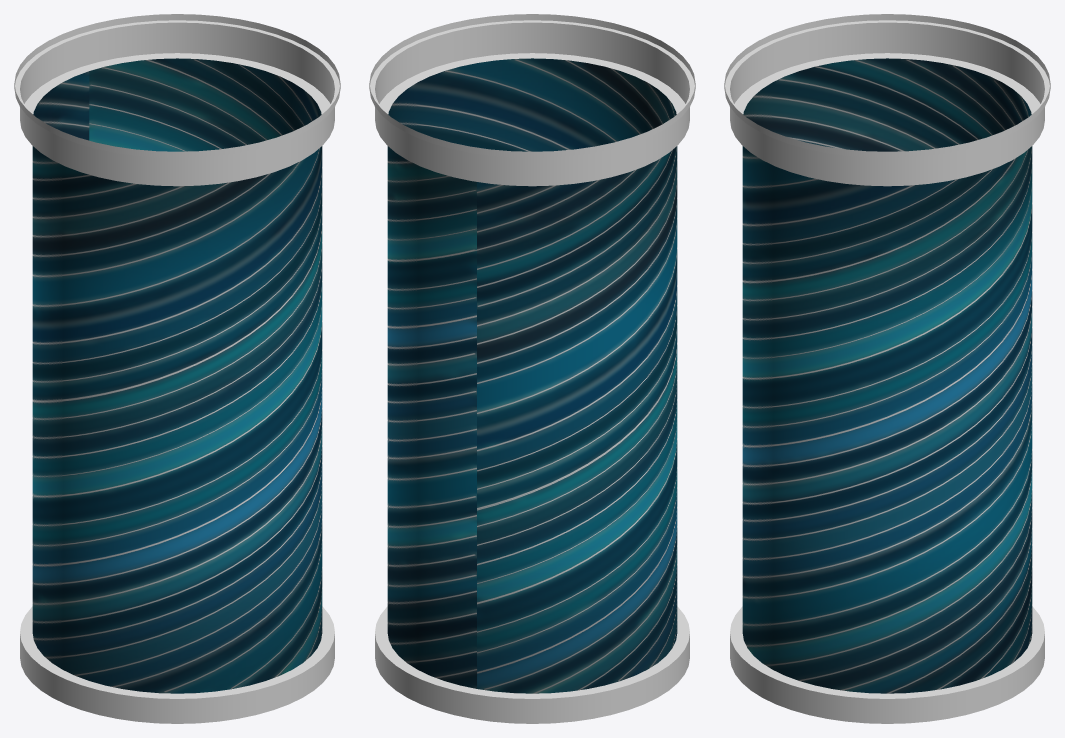
Rendered from Column09.FBX.
3 renders of one model, left to right at view 1: azimuth 30°, elevation 25°; view 2: azimuth 150°, elevation 25°; view 3: azimuth 270°, elevation 25°, orthographic.
Parts seen in each view (by area): view 1: Column09; view 2: Column09; view 3: Column09.
Part boxes in pixels (left/top/right/bottom): Column09: left=14, top=14, right=340, bottom=723; Column09: left=369, top=14, right=695, bottom=723; Column09: left=724, top=14, right=1050, bottom=723.
Size of the model in its own units: 1800 by 3500 by 1800.
